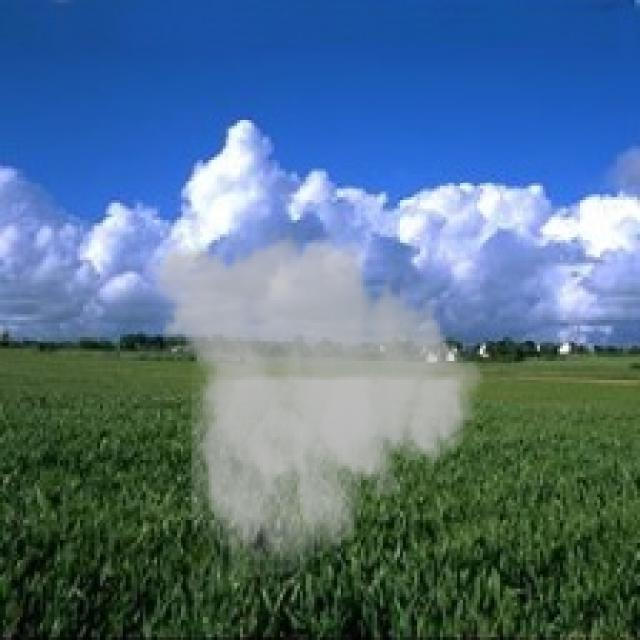Smoke: (137, 222, 494, 578)
